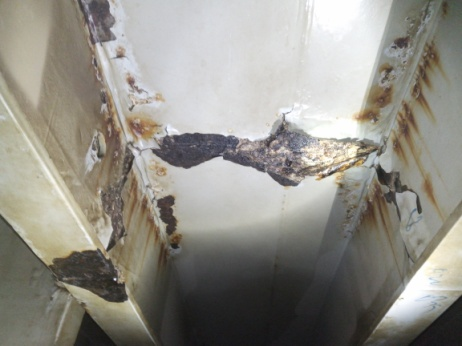corrosion: (156, 114, 381, 190), (397, 130, 455, 227), (55, 241, 134, 304), (88, 148, 137, 248), (360, 198, 407, 284), (116, 71, 166, 146), (409, 38, 455, 117), (351, 169, 427, 215), (148, 188, 198, 256), (372, 36, 406, 111), (72, 0, 126, 44)
